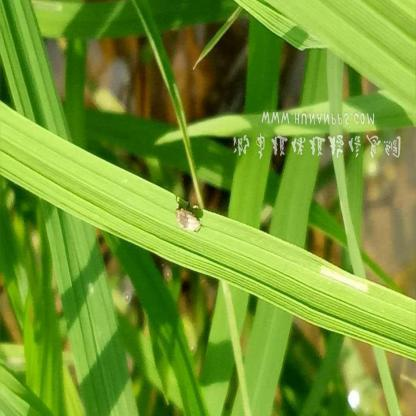rice-bug: (174, 200, 200, 238)
